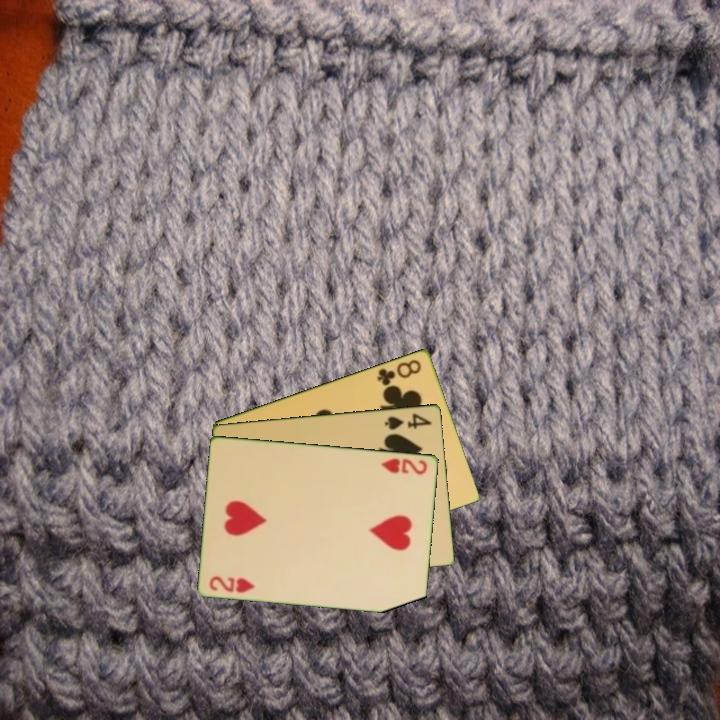2h: (378, 454, 430, 477), (206, 572, 258, 595)
4s: (381, 409, 435, 432)
8c: (374, 355, 424, 388)
